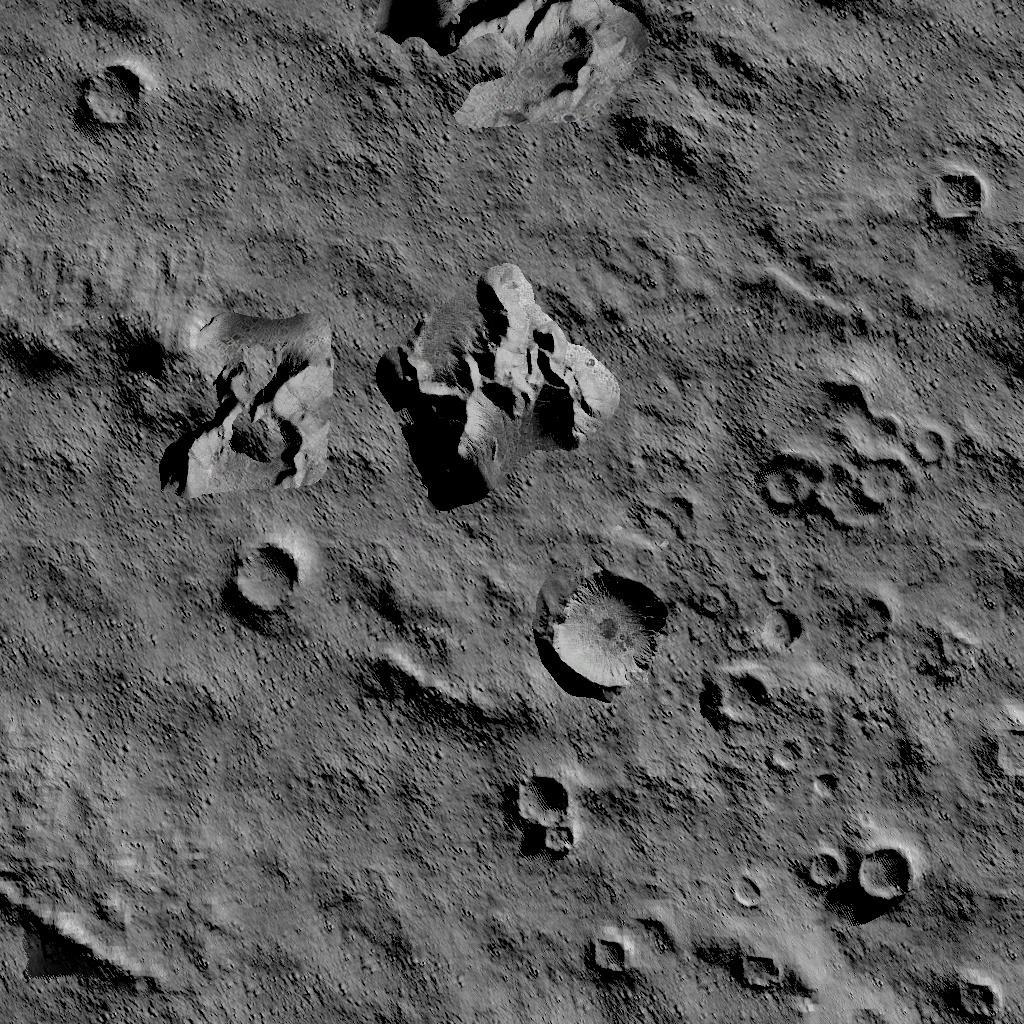Boulders: (0, 234, 339, 504), (364, 0, 778, 173), (368, 256, 624, 510), (3, 874, 171, 1006), (356, 644, 522, 743), (349, 554, 475, 636), (77, 0, 182, 43)
Crater: (757, 356, 950, 552), (533, 566, 670, 703), (701, 606, 809, 740), (216, 526, 316, 638), (789, 838, 918, 914), (500, 764, 586, 868), (957, 246, 1024, 378), (69, 58, 158, 132), (967, 712, 1024, 798), (934, 954, 1010, 1018), (916, 164, 986, 230), (579, 920, 641, 984), (925, 622, 980, 686), (844, 586, 898, 644), (739, 950, 790, 998)
Plan surface: (220, 756, 476, 1024), (1, 518, 203, 856), (815, 0, 1024, 151), (212, 0, 344, 224)
